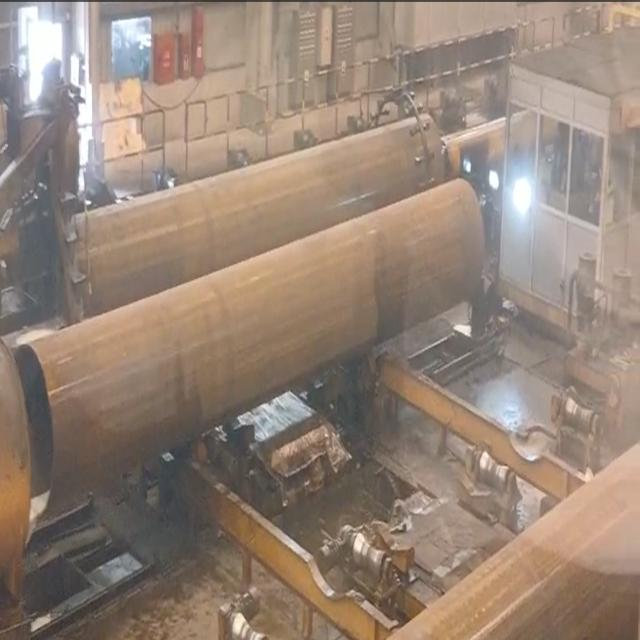warningzone: (162, 333, 597, 634)
